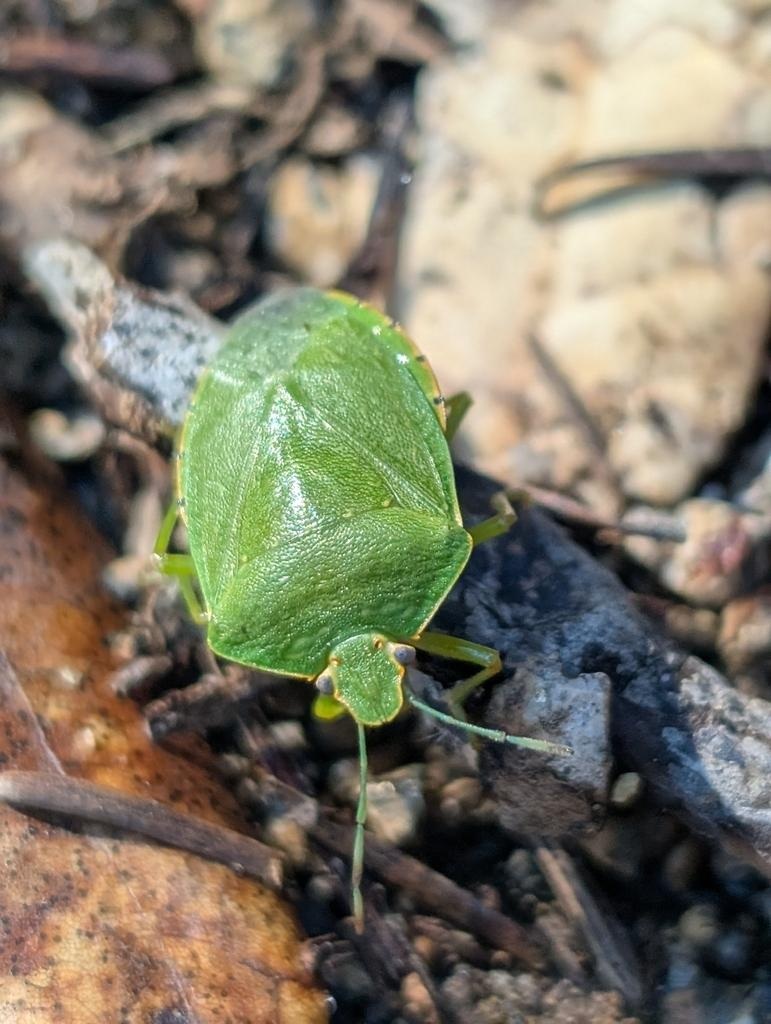stink_bugs: (52, 190, 724, 961)
